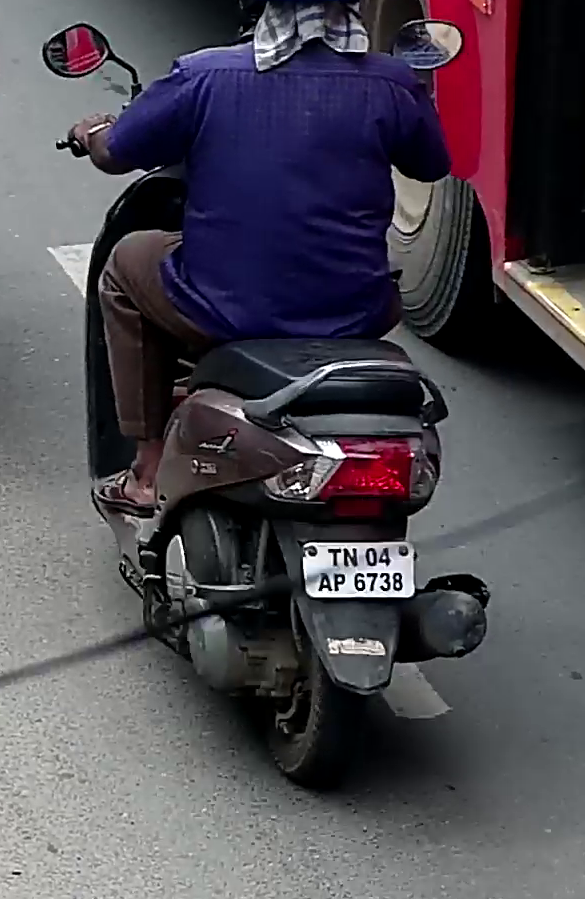0: (365, 547, 378, 567)
3: (379, 572, 391, 592)
4: (378, 546, 391, 567)
6: (354, 572, 366, 591)
7: (366, 572, 378, 591)
8: (391, 572, 404, 592)
A: (317, 572, 333, 592)
N: (343, 547, 358, 568)
P: (334, 572, 345, 591)
P16: (301, 539, 416, 600)
T: (327, 548, 342, 568)
